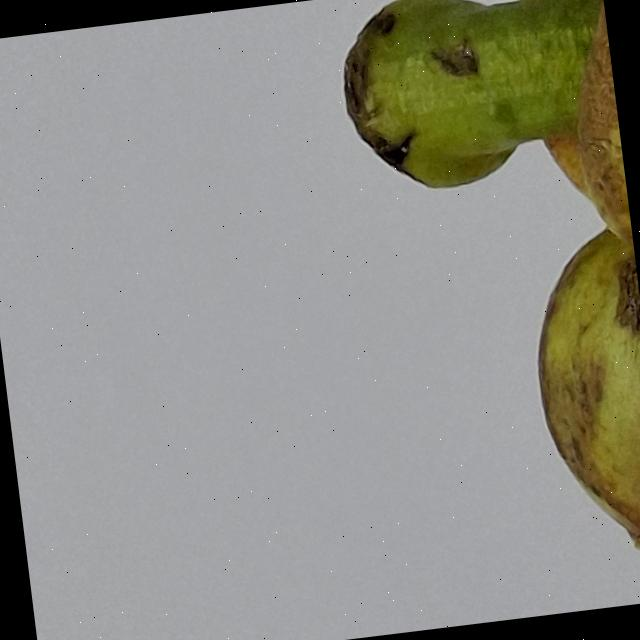mangosteen: (310, 0, 640, 634)
